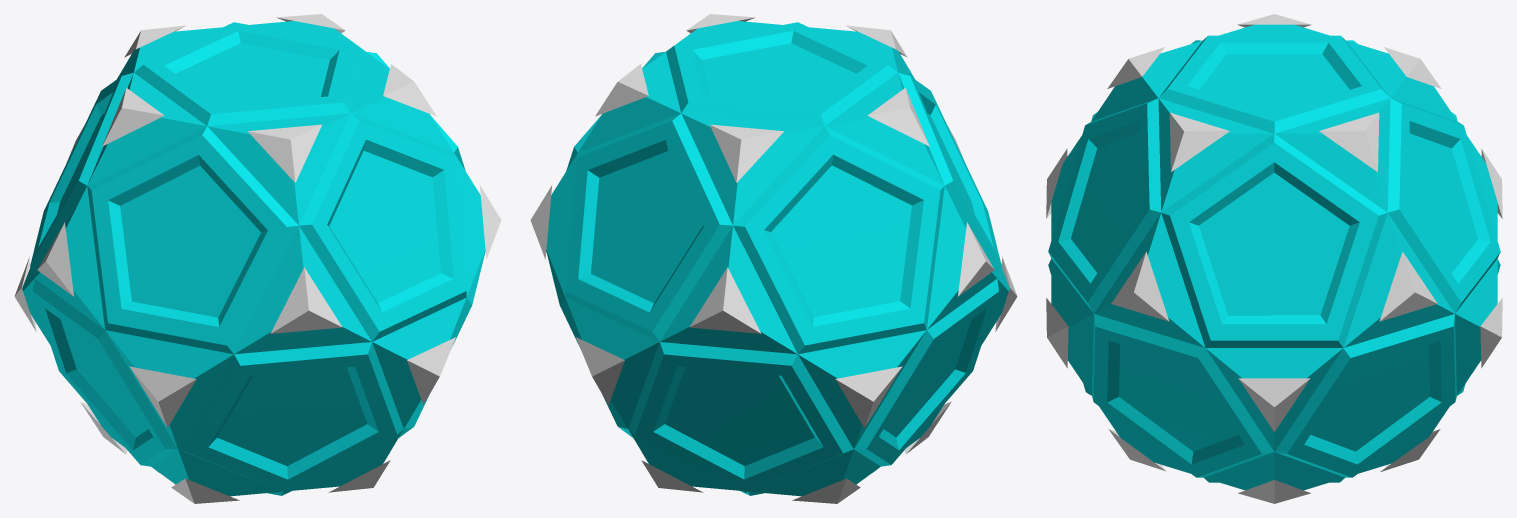
The model's file is Shield.fbx.
3 renders of one model, left to right at view 1: azimuth 30°, elevation 25°; view 2: azimuth 150°, elevation 25°; view 3: azimuth 270°, elevation 25°, orthographic. The views are drawn at different scales.
Visible parts, largest first — view 1: Seald, SealdCorner; view 2: Seald, SealdCorner; view 3: Seald, SealdCorner.
Part boxes in pixels (left/top/right/bottom): Seald: left=22, top=21, right=485, bottom=496; SealdCorner: left=14, top=14, right=501, bottom=503; Seald: left=546, top=21, right=1009, bottom=496; SealdCorner: left=530, top=14, right=1017, bottom=503; Seald: left=1048, top=24, right=1500, bottom=490; SealdCorner: left=1046, top=14, right=1502, bottom=503.
Bounding box in the file's own units: 23.84 × 20.36 × 22.74.
